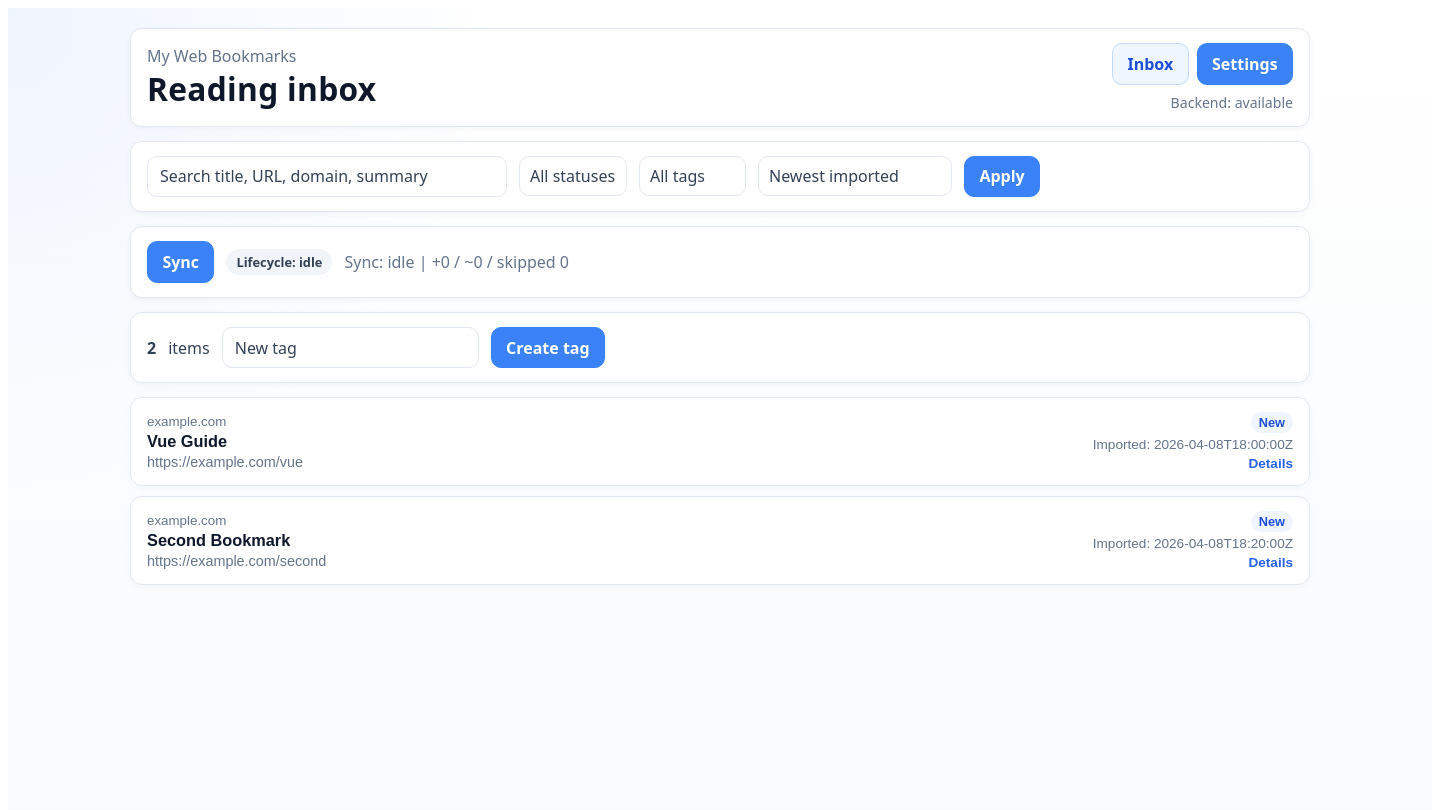
App › shows sync errors returned after a sync attempt
The width and height of the screenshot is (1440, 810).
Click the button with aria-label "Sync bookmarks" at (181, 262), box [147, 241, 214, 283]
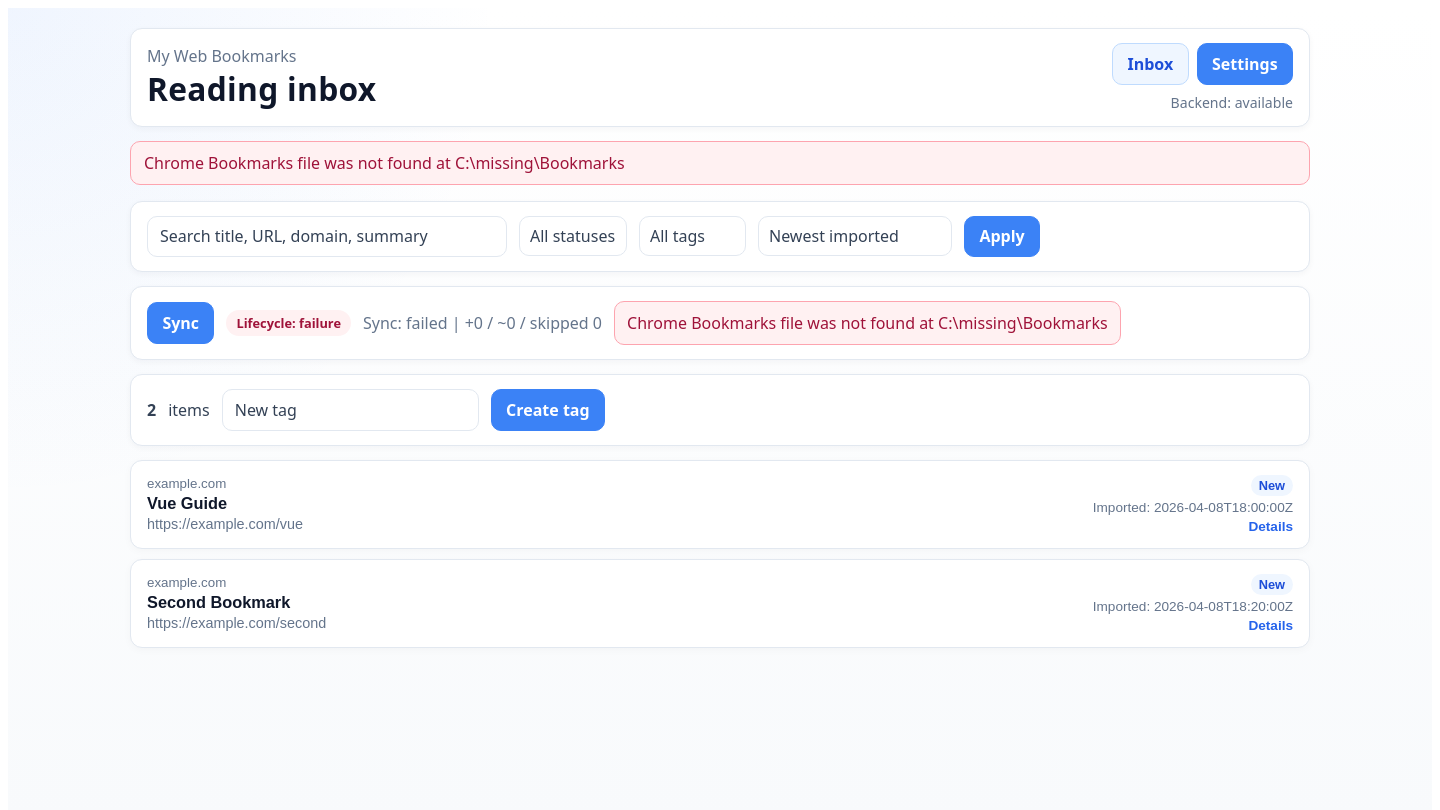
Now the text "Chrome Bookmarks file was not found" is shown, box [144, 152, 625, 174]
